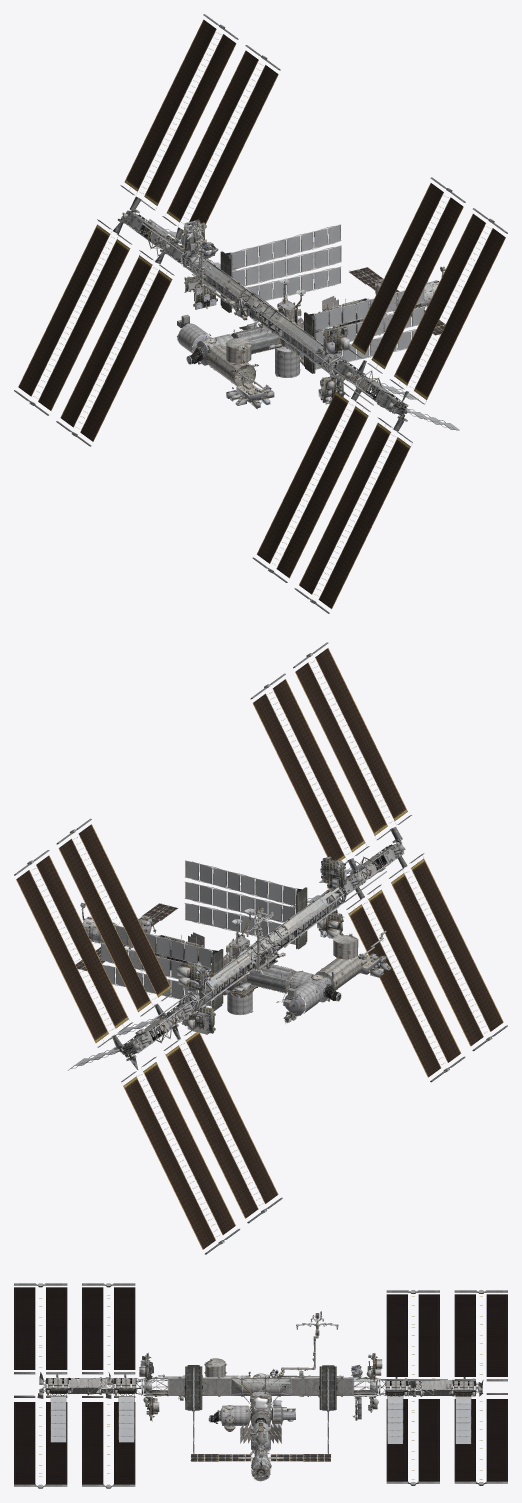
File: iss-1m.glb
3 renders of one model, top to bottom at view 1: azimuth 30°, elevation 25°; view 2: azimuth 150°, elevation 25°; view 3: azimuth 270°, elevation 25°, orthographic. The views are drawn at different scales.
Visible parts, largest first — view 1: 08 P6 Truss, 32 S6 Truss, 16 S1 Truss, 20 P4 Truss_01, 23 S4 Truss_01, 20 P4 Truss_02, 23 S4 Truss_02, 17 P1 Truss, 30 Kibo Space Laboratory (PSM) Pressurized Module, 14 S0 Truss, 20 P4 Truss, 09 Destiny Space Laboratory (+3 smaller); view 2: 32 S6 Truss, 08 P6 Truss, 17 P1 Truss, 23 S4 Truss_01, 23 S4 Truss_02, 20 P4 Truss_02, 20 P4 Truss_01, 16 S1 Truss, 09 Destiny Space Laboratory, 27 Columbus Space Laboratory, 30 Kibo Space Laboratory (PSM) Pressurized Module, 14 S0 Truss (+3 smaller); view 3: 08 P6 Truss, 32 S6 Truss, 20 P4 Truss_02, 23 S4 Truss_02, 20 P4 Truss_01, 23 S4 Truss_01, 17 P1 Truss, 16 S1 Truss, 20 P4 Truss, 23 S4 Truss, 14 S0 Truss, 37 Tranquility Node 3 (+11 smaller).
Part boxes in pixels (box(x1,y1,x2,y2)): 08 P6 Truss: box(294, 208, 507, 613); 32 S6 Truss: box(14, 14, 238, 415); 16 S1 Truss: box(199, 224, 341, 312); 20 P4 Truss_01: box(252, 387, 370, 582); 23 S4 Truss_01: box(56, 250, 174, 446); 20 P4 Truss_02: box(347, 177, 465, 373); 23 S4 Truss_02: box(162, 45, 280, 240); 17 P1 Truss: box(275, 288, 424, 373); 30 Kibo Space Laboratory (PSM) Pressurized Module: box(206, 344, 258, 386); 14 S0 Truss: box(229, 288, 284, 341); 20 P4 Truss: box(328, 357, 415, 405); 09 Destiny Space Laboratory: box(231, 323, 280, 354); 32 S6 Truss: box(14, 850, 239, 1254); 08 P6 Truss: box(293, 642, 507, 1051); 17 P1 Truss: box(184, 860, 328, 949); 23 S4 Truss_01: box(163, 1025, 282, 1223); 23 S4 Truss_02: box(56, 818, 175, 1016); 20 P4 Truss_02: box(250, 673, 369, 870); 20 P4 Truss_01: box(346, 884, 465, 1082); 16 S1 Truss: box(100, 924, 252, 1010); 09 Destiny Space Laboratory: box(247, 964, 296, 1002); 27 Columbus Space Laboratory: box(283, 982, 321, 1020); 30 Kibo Space Laboratory (PSM) Pressurized Module: box(315, 955, 365, 994); 14 S0 Truss: box(238, 925, 297, 981); 08 P6 Truss: box(14, 1283, 99, 1488); 32 S6 Truss: box(422, 1290, 507, 1485); 20 P4 Truss_02: box(82, 1283, 135, 1381); 23 S4 Truss_02: box(386, 1290, 439, 1388); 20 P4 Truss_01: box(82, 1394, 135, 1488); 23 S4 Truss_01: box(386, 1395, 439, 1485); 17 P1 Truss: box(168, 1365, 230, 1453); 16 S1 Truss: box(291, 1365, 353, 1453); 20 P4 Truss: box(100, 1374, 143, 1442); 23 S4 Truss: box(378, 1377, 447, 1444); 14 S0 Truss: box(231, 1376, 290, 1404); 37 Tranquility Node 3: box(219, 1405, 250, 1426).
Size of the model in its own units: 0.5235 by 0.6142 by 1.
27 materials, 21 textured.
